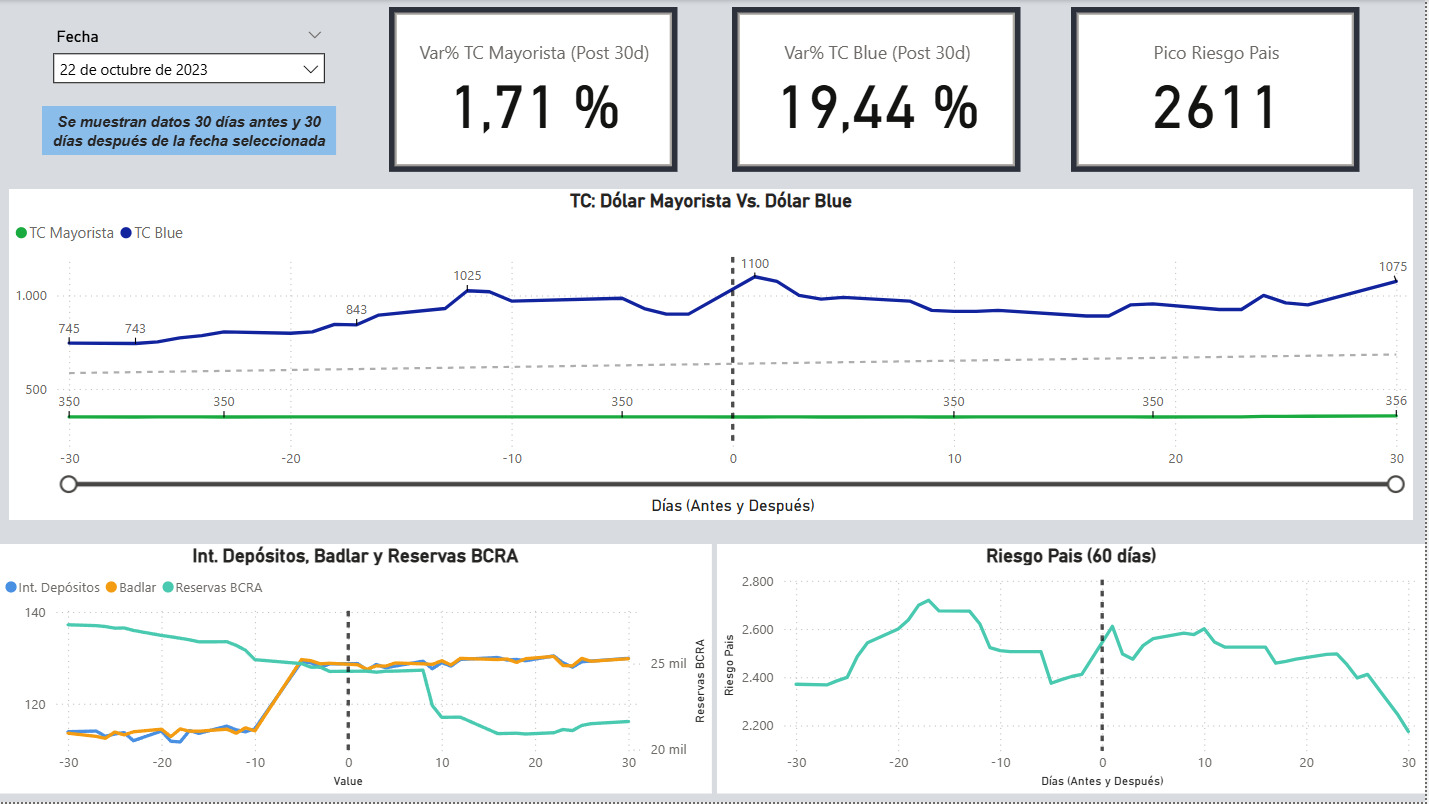

This screenshot's page, from the dashboard's own definition file:
{"tool":"powerbi","page":{"name":"TC elecciones","canvas":[1280,720],"ordinal":0},"visuals":[{"type":"cardVisual","fields":{"Data":["Medidas Dax.Var% TC Mayorista (Post 30d)"]},"box":[350.1,6.3,259.5,148.1],"z":0},{"type":"lineChart","title":"TC: Dólar Mayorista Vs. Dólar Blue","fields":{"Category":["Dias Relativos.Value"],"Y":["Medidas Dax.TC Mayorista por Dia Relativo","Medidas Dax.TC Blue por Dia Relativo"]},"box":[9,169.7,1260.4,297.2],"z":1000},{"type":"lineChart","title":"Int. Depósitos, Badlar y Reservas BCRA","fields":{"Category":["Dias Relativos.Value"],"Y2":["Medidas Dax.Reservas por Dia Relativo"],"Y":["Medidas Dax.int depositos por Dia Relativo","Medidas Dax.Badlar Dia Relativo"]},"box":[0,488.4,640.1,223.5],"z":2000},{"type":"slicer","fields":{"Values":["Elecciones.Fecha"]},"box":[38.6,19.8,263.9,80.8],"z":3000},{"type":"lineChart","title":"Riesgo Pais (60 días)","fields":{"Category":["Dias Relativos.Value"],"Y":["Medidas Dax.Riesgo Pais por Dia Relativo"]},"box":[644.6,488.4,635.6,223.5],"z":4000},{"type":"cardVisual","fields":{"Data":["Medidas Dax.Var% TC Blue (Post 30d)"]},"box":[658.1,6.3,259.5,148.1],"z":5000},{"type":"cardVisual","title":"Pico Riesgo País","fields":{"Data":["Medidas Dax.Pico Riesgo Pais (Post 30d)"]},"box":[962.4,6.3,259.5,148.1],"z":6000},{"type":"textbox","box":[38.6,95.2,263.9,44],"z":8000}]}

Visuals, with their boxes in screenshot pixels (x1, y1, x2, y2), scaled from the page's 1280x720 canvas onto the 1429x804 screenshot:
cardVisual - Medidas Dax.Var% TC Mayorista (Post 30d): locate(391, 7, 681, 172)
"TC: Dólar Mayorista Vs. Dólar Blue" lineChart: locate(10, 189, 1417, 521)
"Int. Depósitos, Badlar y Reservas BCRA" lineChart: locate(0, 545, 715, 795)
slicer - Elecciones.Fecha: locate(43, 22, 338, 112)
"Riesgo Pais (60 días)" lineChart: locate(720, 545, 1428, 795)
cardVisual - Medidas Dax.Var% TC Blue (Post 30d): locate(735, 7, 1024, 172)
"Pico Riesgo País" cardVisual: locate(1074, 7, 1364, 172)
textbox: locate(43, 106, 338, 155)
